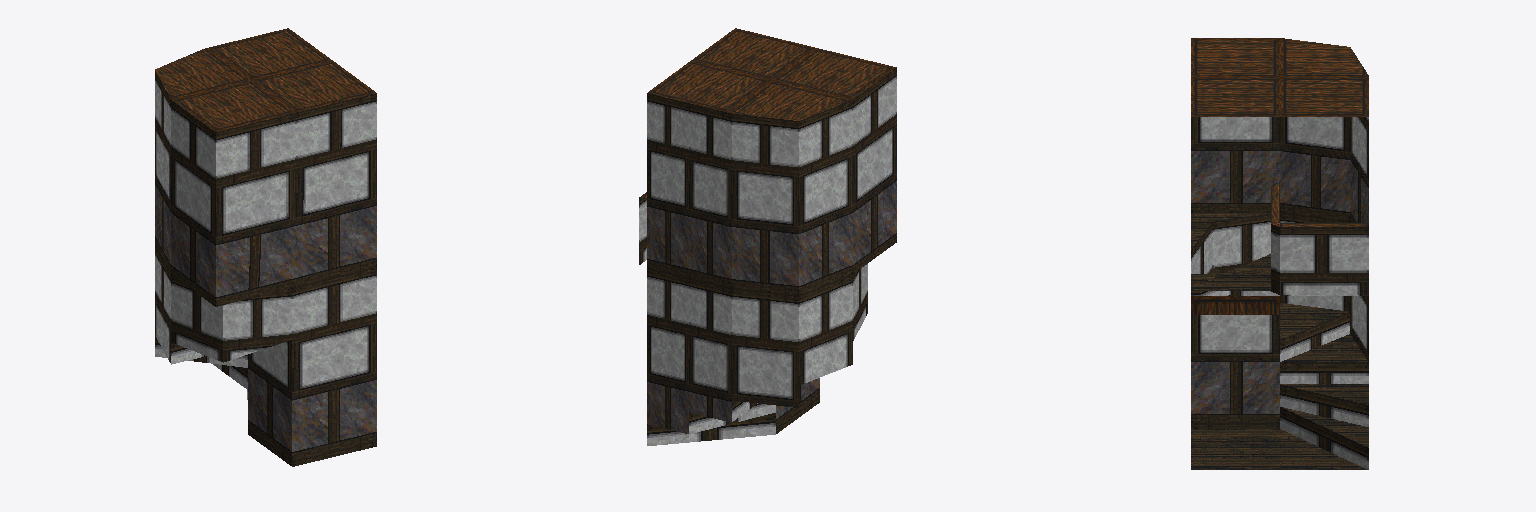
The picture shows the model from 3 angles: view 1: azimuth 30°, elevation 25°; view 2: azimuth 150°, elevation 25°; view 3: azimuth 270°, elevation 25°; orthographic projection.
Visible parts, largest first — view 1: model31022-node; view 2: model31022-node; view 3: model31022-node.
Part boxes in pixels (left/top/right/bottom): model31022-node: left=155, top=28, right=376, bottom=466; model31022-node: left=639, top=28, right=896, bottom=445; model31022-node: left=1191, top=38, right=1368, bottom=469.
Bounding box in the file's own units: 3.2 × 6.38 × 2.9.
Materials: 3 (3 with a texture image).